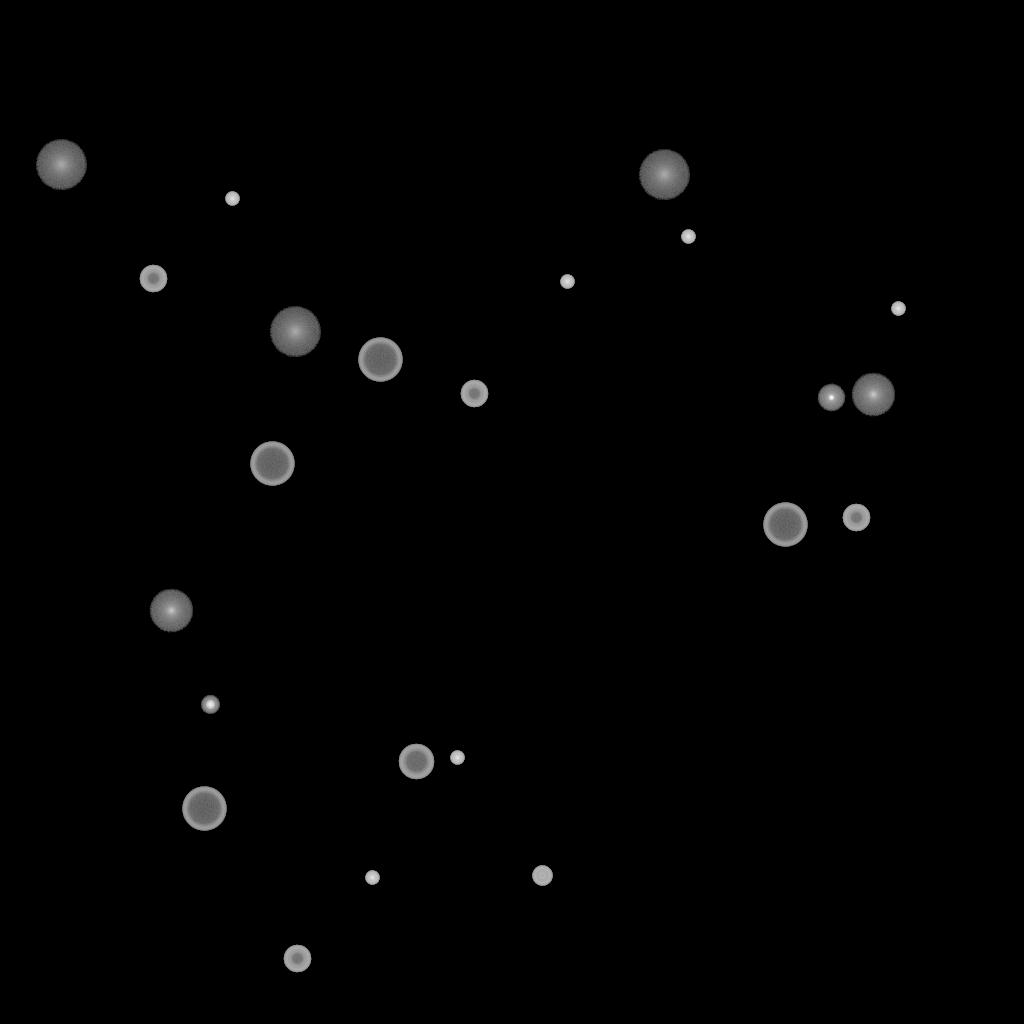depth:-10: (817, 384, 845, 412)
depth:-20: (201, 696, 219, 714)
depth:-30: (450, 751, 464, 765), (560, 275, 574, 289), (225, 192, 239, 206), (365, 871, 379, 885), (891, 302, 905, 316), (681, 230, 695, 244)
depth:-40: (532, 866, 552, 886)
depth:-50: (283, 945, 311, 973), (460, 380, 488, 408), (842, 504, 870, 532), (139, 265, 167, 293)
depth:-60: (398, 744, 434, 780)
depth:-70: (250, 442, 294, 486), (182, 787, 226, 831), (763, 503, 807, 547), (358, 338, 402, 382)
depth:10: (851, 373, 895, 417), (149, 589, 193, 633)
depth:20: (638, 150, 690, 200), (269, 307, 321, 357), (35, 140, 87, 190)
